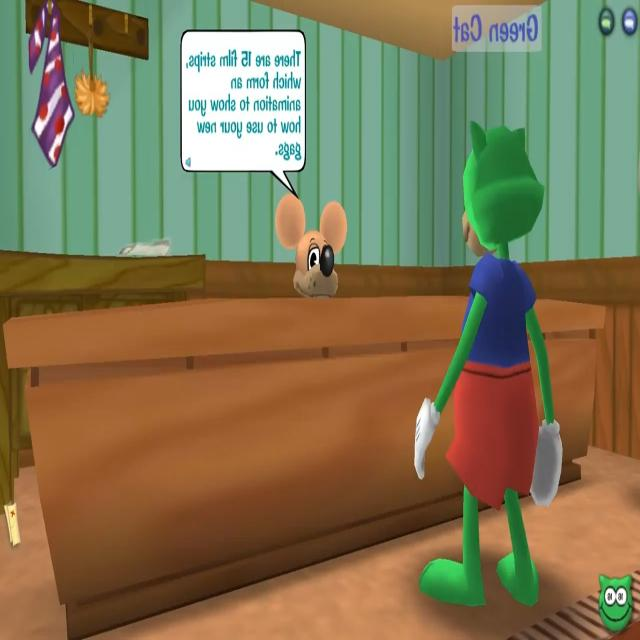npc: (276, 197, 348, 300)
